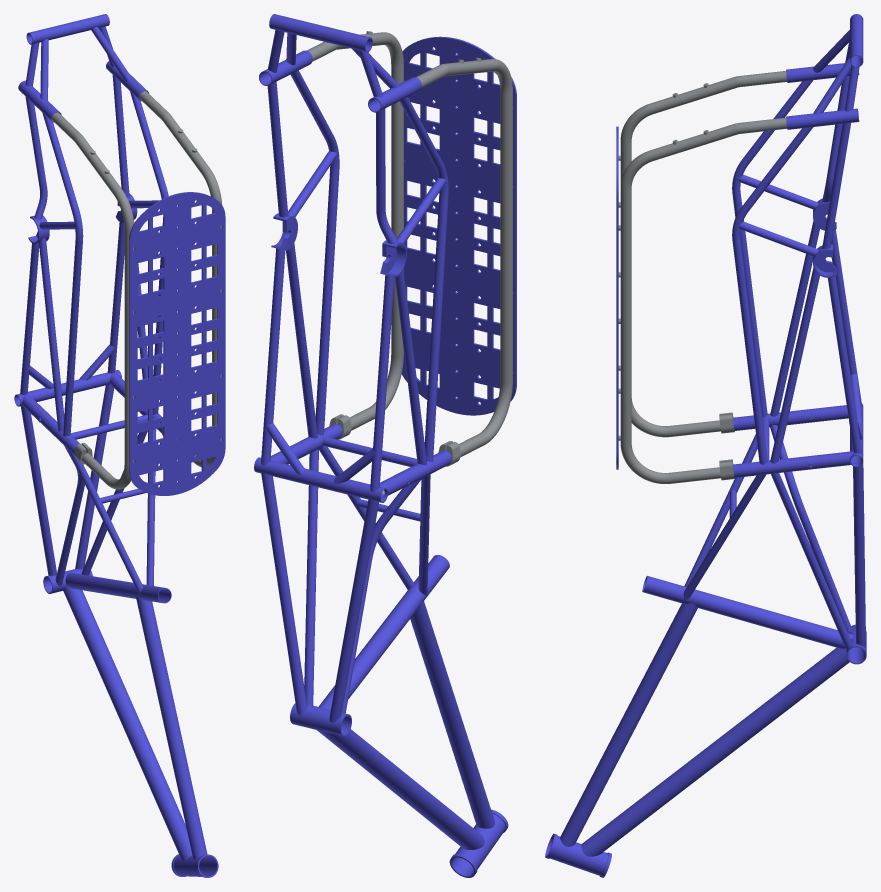
The picture shows the model from 3 angles, left to right: view 1: azimuth 30°, elevation 25°; view 2: azimuth 150°, elevation 25°; view 3: azimuth 270°, elevation 25°; orthographic projection. The views are drawn at different scales.
Parts seen in each view (by area): view 1: FRAME, DECK, RAIL_RIGHT, RAIL_LEFT; view 2: FRAME, DECK, RAIL_RIGHT, RAIL_LEFT; view 3: FRAME, RAIL_LEFT, RAIL_RIGHT, DECK.
Boxes of the visible parts, x1=… form: FRAME: x1=14, y1=14, x2=218, y2=877; DECK: x1=129, y1=192, x2=225, y2=495; RAIL_RIGHT: x1=51, y1=112, x2=134, y2=489; RAIL_LEFT: x1=139, y1=91, x2=222, y2=467; FRAME: x1=254, y1=14, x2=508, y2=877; DECK: x1=401, y1=36, x2=516, y2=415; RAIL_RIGHT: x1=381, y1=57, x2=513, y2=494; RAIL_LEFT: x1=298, y1=31, x2=404, y2=455; FRAME: x1=545, y1=14, x2=866, y2=877; RAIL_LEFT: x1=618, y1=117, x2=811, y2=483; RAIL_RIGHT: x1=618, y1=71, x2=811, y2=437; DECK: x1=616, y1=126, x2=618, y2=469.
Bounding box in the file's own units: 0.25 × 1.81 × 0.6255.
